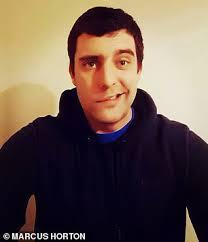strokeEyeMid: (79, 50, 138, 72)
strokeMouthSevere: (91, 88, 128, 105)
